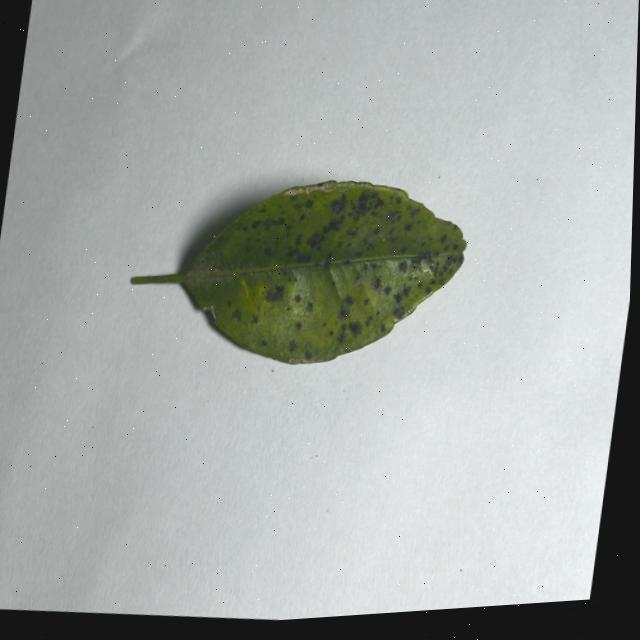sooty_mold: (132, 180, 466, 362)
